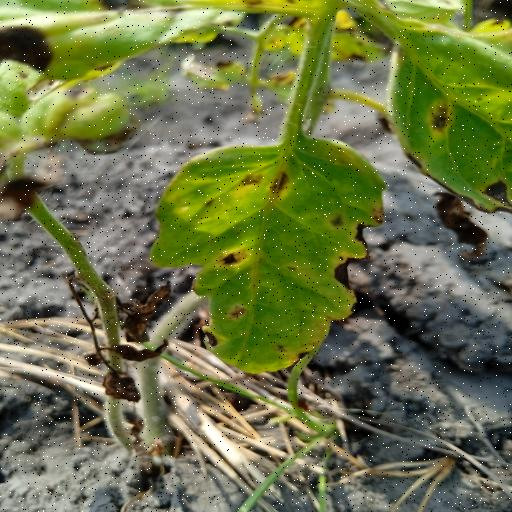Tomato_Brown_Spots: (144, 124, 390, 378), (380, 0, 512, 217)
